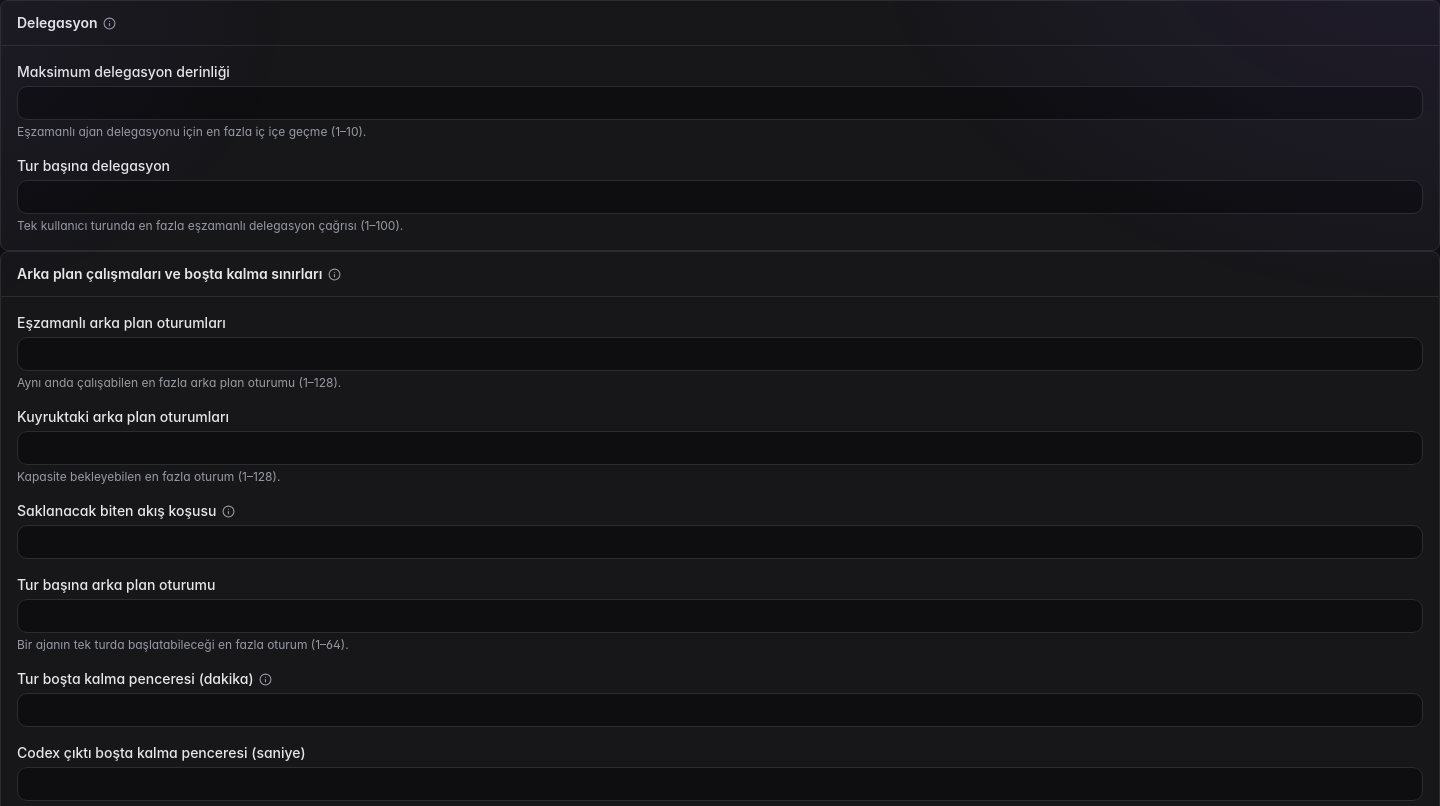
Test case: ExecutionPanel spawn limits › renders execution settings in Turkish when the UI locale changes
The image size is (1440, 806).
expect the heading "Arka plan çalışmaları ve boşta kalma sınırları" is shown: met, box [17,265,322,282]
Click the 2nd button named "Bilgi" at (334, 274), box [328,268,341,280]
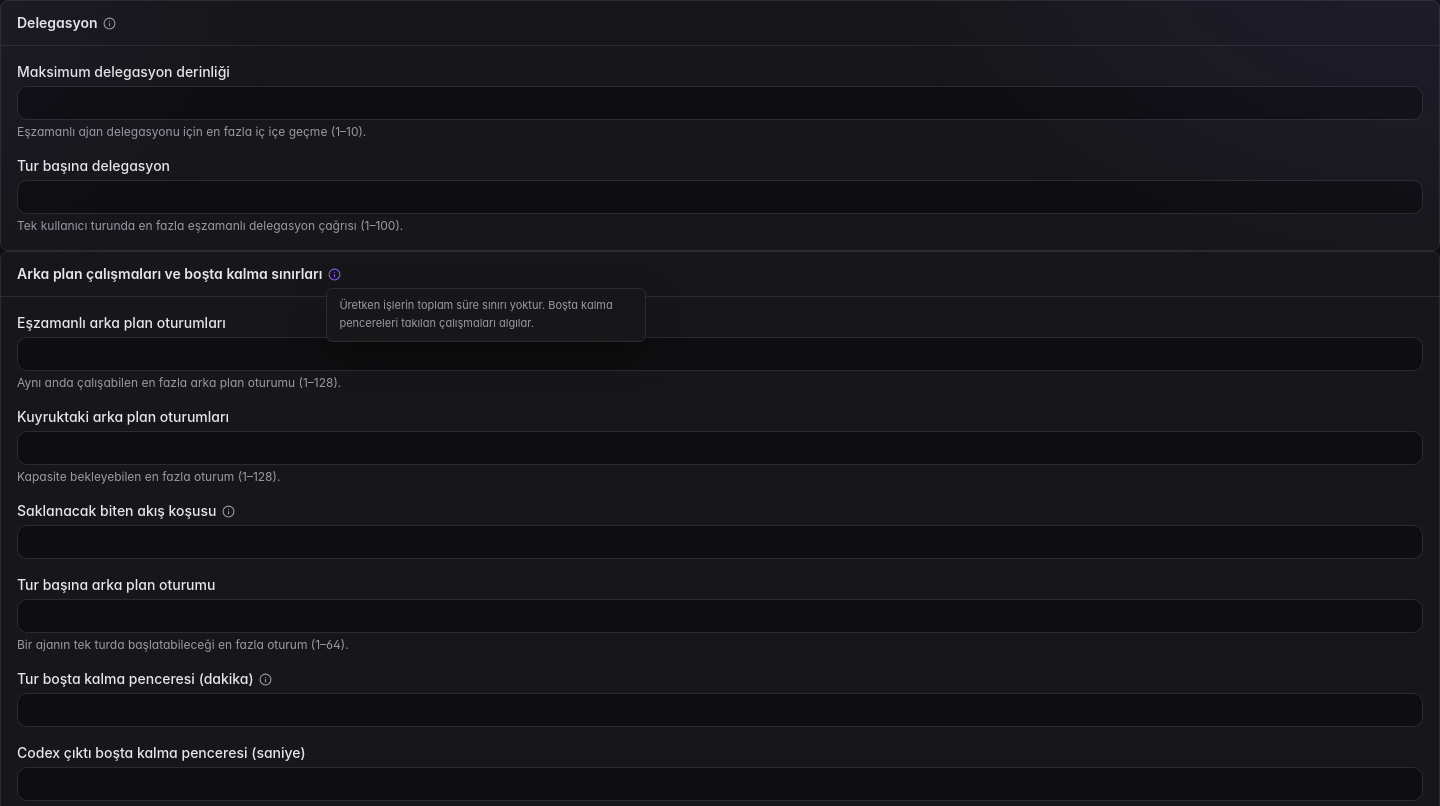
expect the tooltip shows "Üretken işlerin toplam süre sınırı yoktur.": met, box [339,298,613,330]
